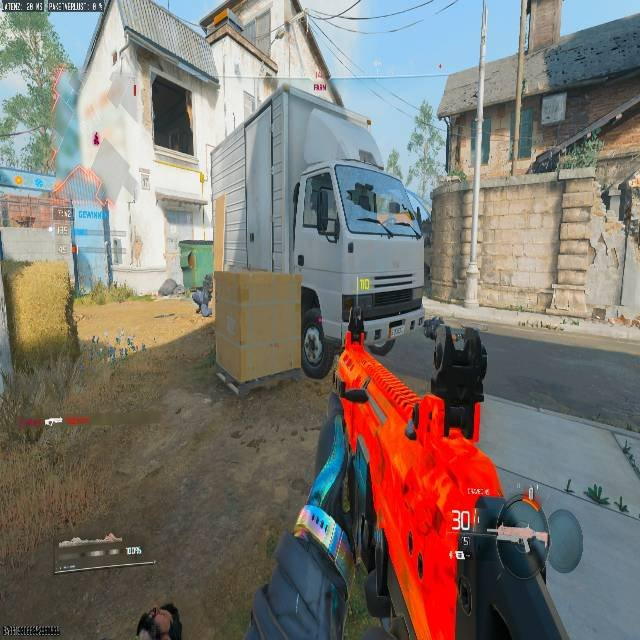player: (133, 237, 143, 266)
